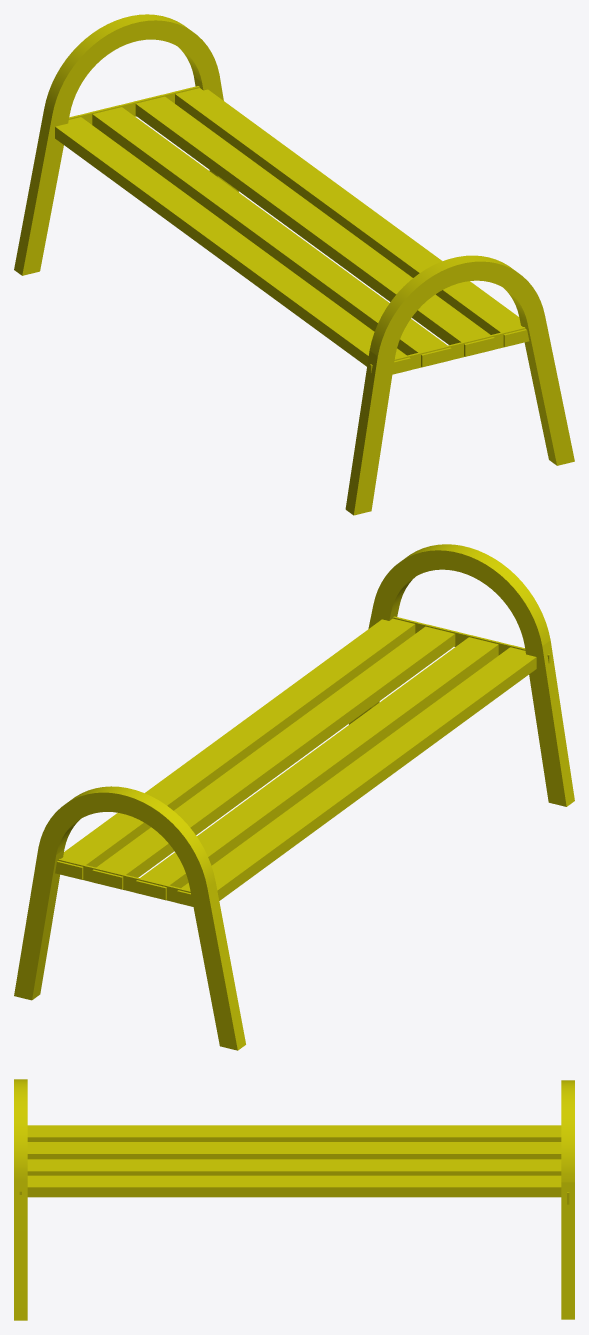
The picture shows the model from 3 angles, top to bottom: view 1: azimuth 30°, elevation 25°; view 2: azimuth 150°, elevation 25°; view 3: azimuth 270°, elevation 25°; orthographic projection. The views are drawn at different scales.
Parts seen in each view (by area): view 1: bench; view 2: bench; view 3: bench.
Part boxes in pixels (<box>): bench: <box>14,14,574,515</box>; bench: <box>14,544,574,1050</box>; bench: <box>14,1079,574,1320</box>.
Bounding box in the file's own units: 0.6925 × 0.6645 × 1.8.
